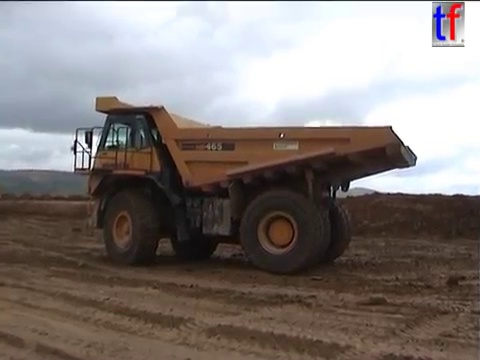truck: (68, 94, 418, 277)
